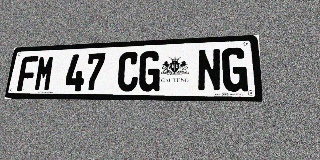4: (64, 54, 87, 91)
7: (83, 53, 106, 91)
C: (117, 52, 139, 91)
F: (17, 56, 38, 91)
G: (222, 47, 248, 92), (138, 51, 161, 92)
M: (33, 55, 55, 91)
N: (197, 48, 222, 92)
